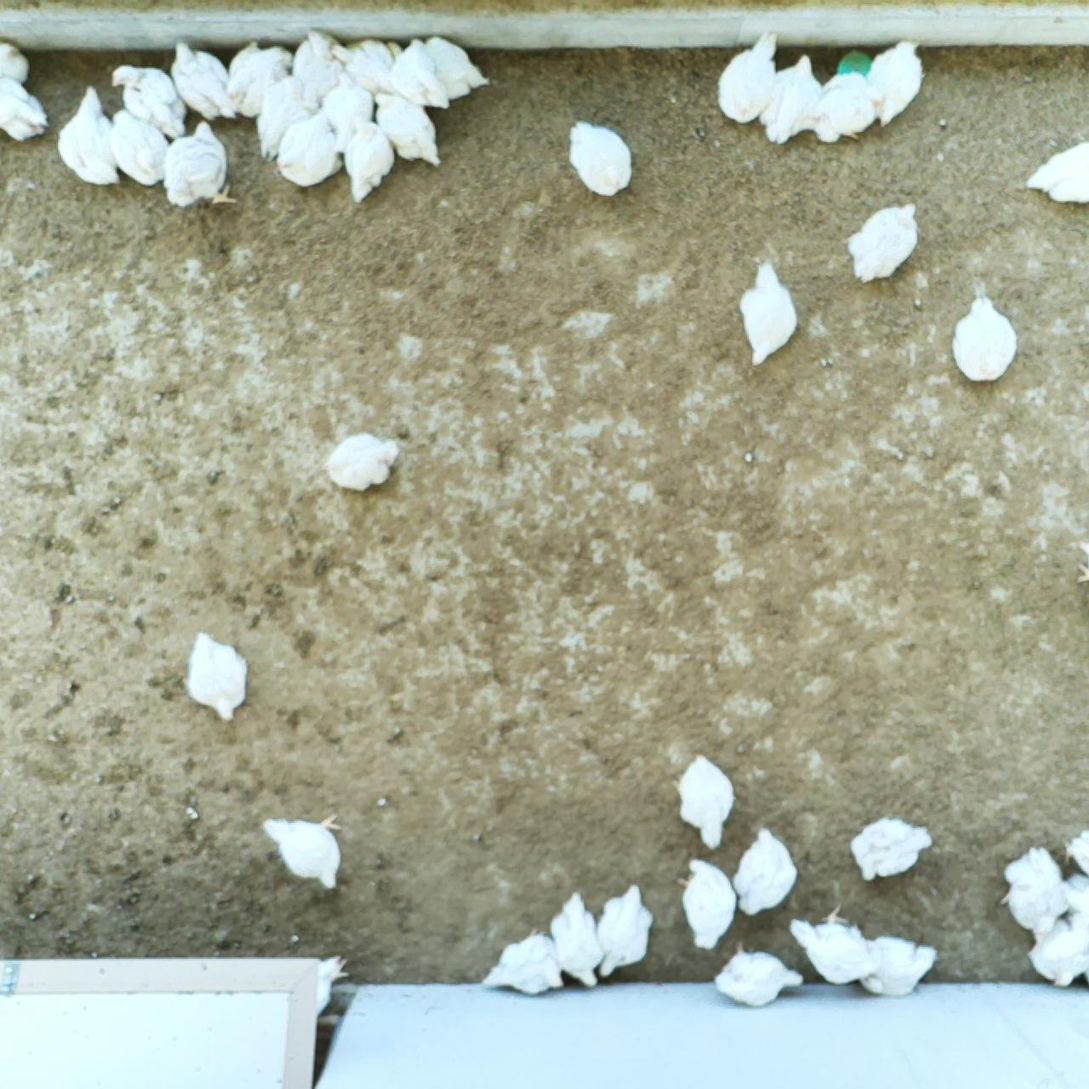chicken: (787, 901, 884, 988), (258, 808, 353, 894), (845, 805, 936, 892), (158, 115, 239, 211), (714, 26, 787, 129), (668, 750, 739, 854), (184, 627, 257, 726), (55, 83, 123, 188), (713, 936, 806, 1012), (739, 256, 801, 369), (806, 66, 890, 149), (673, 853, 741, 955), (848, 200, 928, 286), (947, 291, 1020, 385), (108, 61, 191, 143), (479, 922, 567, 999), (996, 842, 1066, 938), (594, 881, 659, 982), (733, 824, 801, 918), (167, 38, 241, 124), (274, 110, 348, 194), (759, 52, 825, 146), (371, 92, 444, 176), (869, 34, 931, 131), (222, 40, 295, 122), (548, 887, 605, 992), (567, 117, 635, 202), (317, 68, 378, 159), (860, 930, 938, 1001), (343, 112, 398, 207), (106, 105, 169, 187), (323, 428, 400, 495), (328, 35, 404, 100), (1023, 135, 1089, 209), (391, 37, 452, 115), (290, 24, 344, 112), (254, 70, 304, 164), (422, 33, 489, 103), (1023, 927, 1089, 990), (0, 77, 48, 144), (311, 949, 350, 1021), (1053, 871, 1089, 931), (0, 40, 34, 87)
